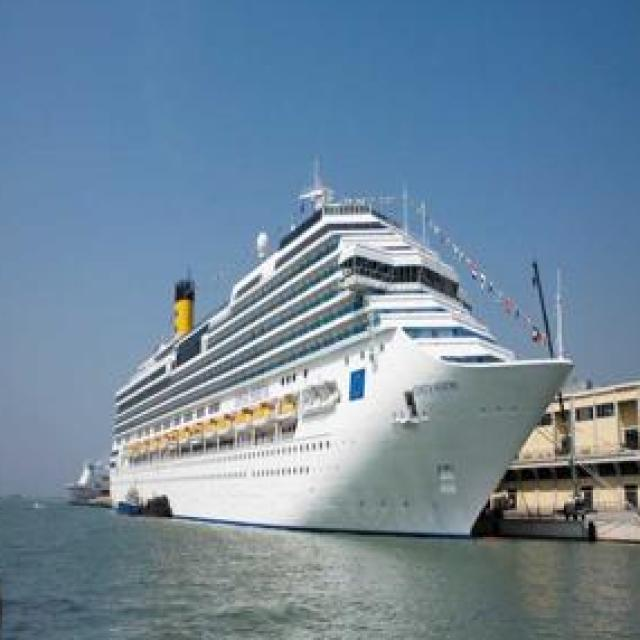passenger ship: (93, 195, 578, 540)
